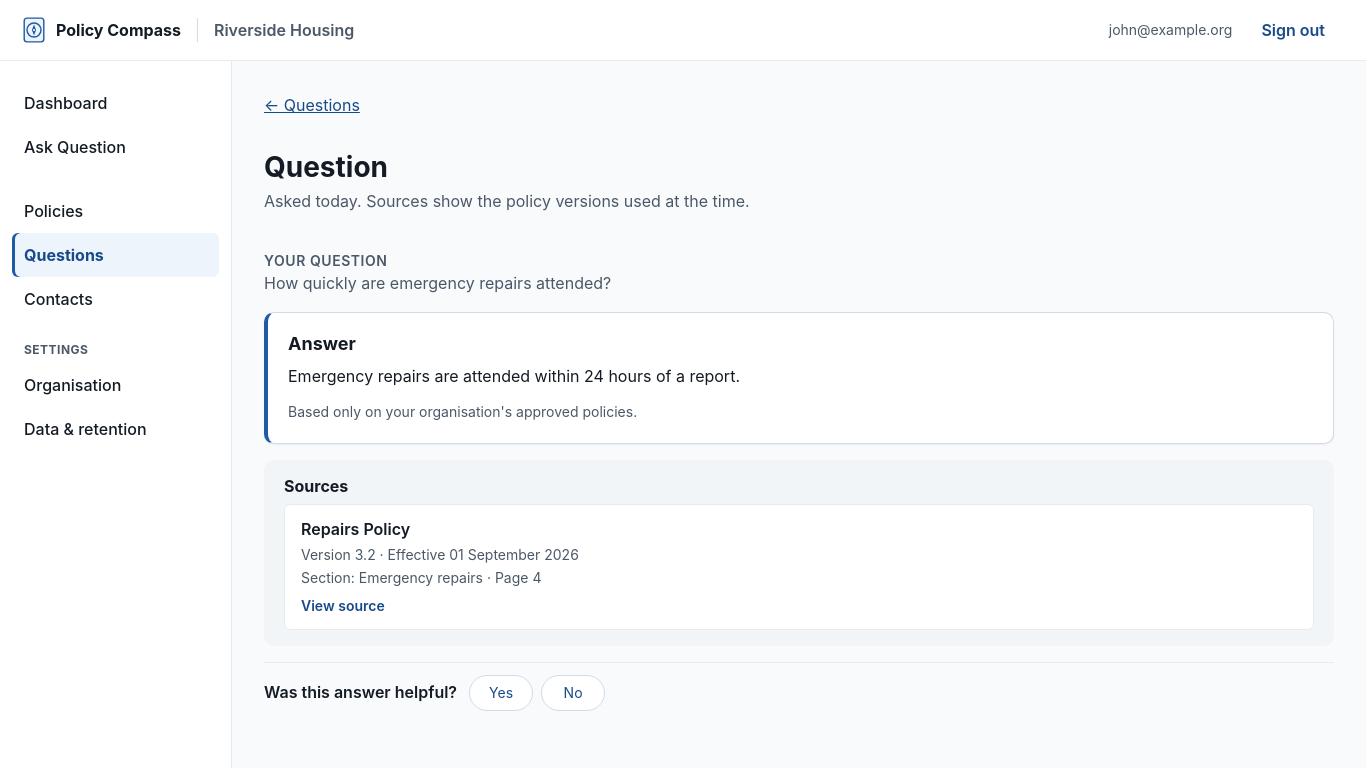
Citations (US-018) › open to show the exact passage used and a link to the policy
Expected: the text "gas leaks" is not shown
Click the button that starts with "Repairs Policy" at (356, 529), box [285, 505, 1313, 629]
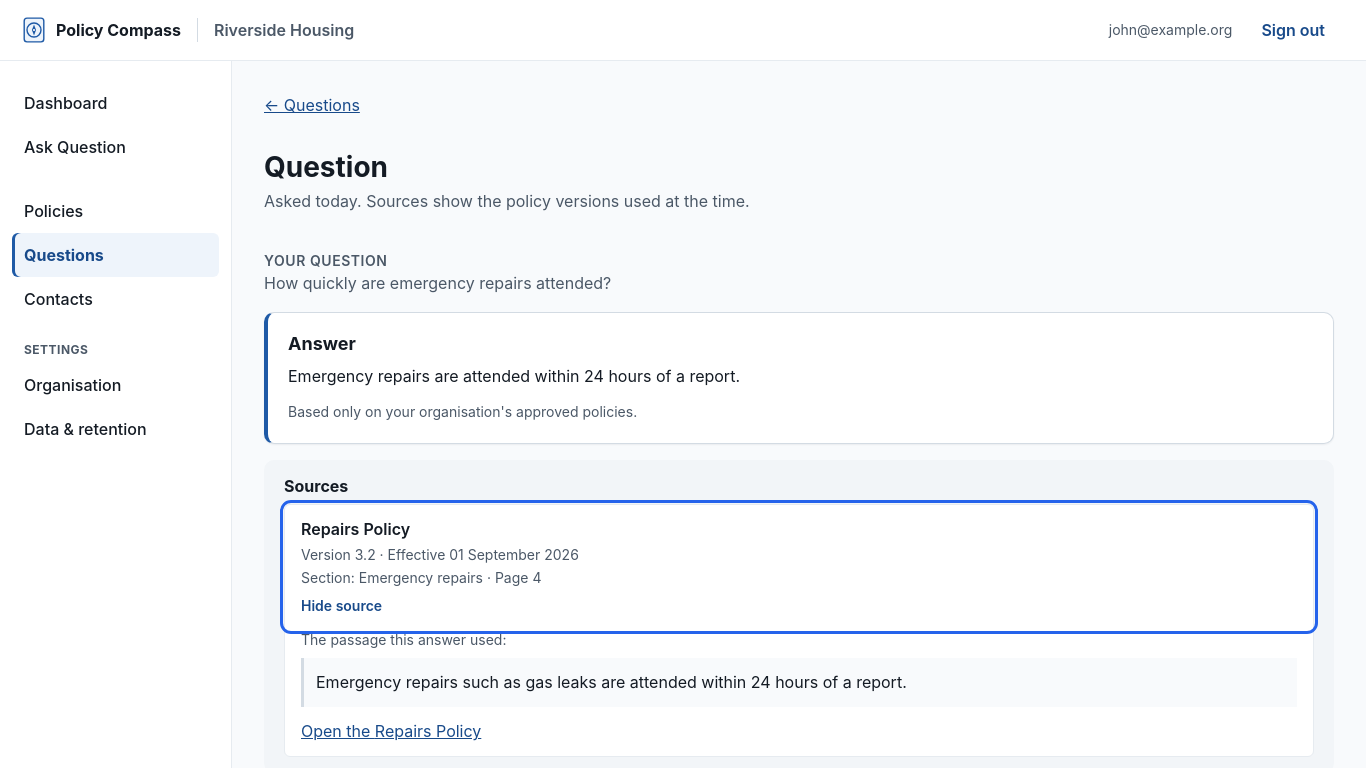
Now the button that starts with "Repairs Policy" is expanded, box [285, 505, 1313, 629]
Now the text "gas leaks are attended" is shown, box [316, 672, 907, 692]
